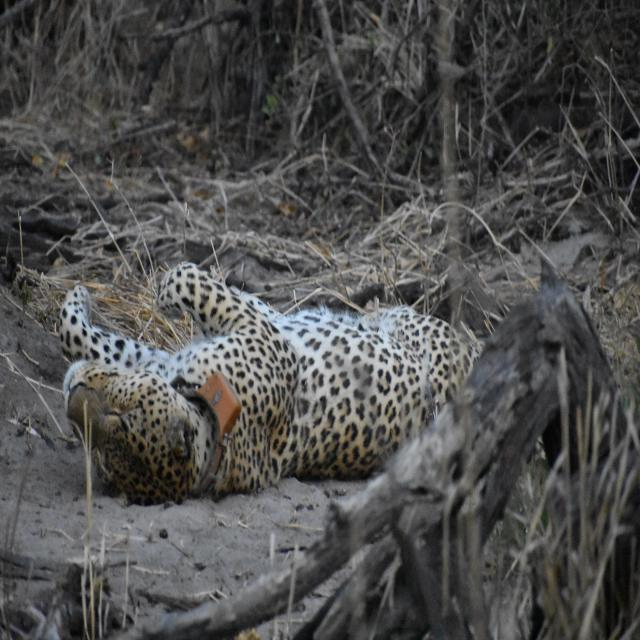Leopard: (42, 263, 510, 496)
